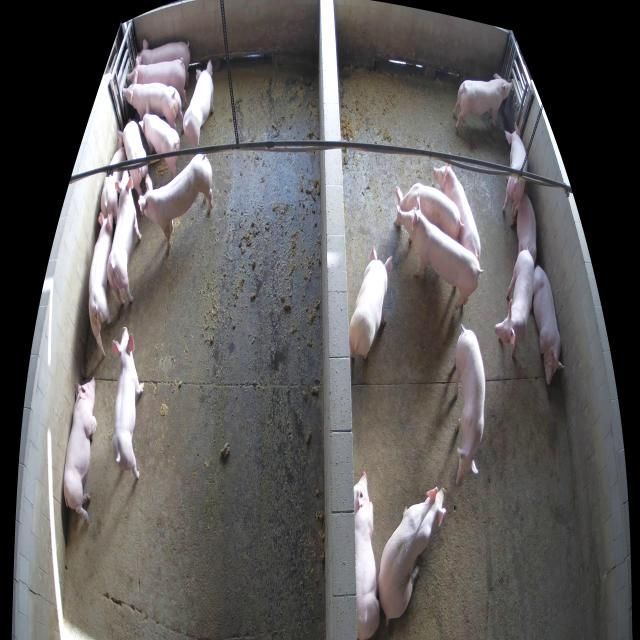pig: (399, 193, 483, 308), (379, 487, 446, 623), (138, 154, 212, 253), (454, 323, 485, 487), (349, 245, 392, 360), (112, 326, 144, 479), (64, 375, 96, 523), (433, 163, 480, 261), (108, 170, 142, 305), (354, 473, 380, 639), (494, 250, 534, 356), (394, 184, 460, 240), (532, 267, 563, 383), (89, 211, 113, 355), (453, 73, 512, 131), (182, 60, 214, 155), (138, 104, 179, 178), (127, 59, 187, 109), (122, 83, 183, 131), (136, 39, 190, 87), (502, 122, 528, 220), (117, 119, 148, 196), (511, 193, 537, 267), (101, 148, 126, 224)
